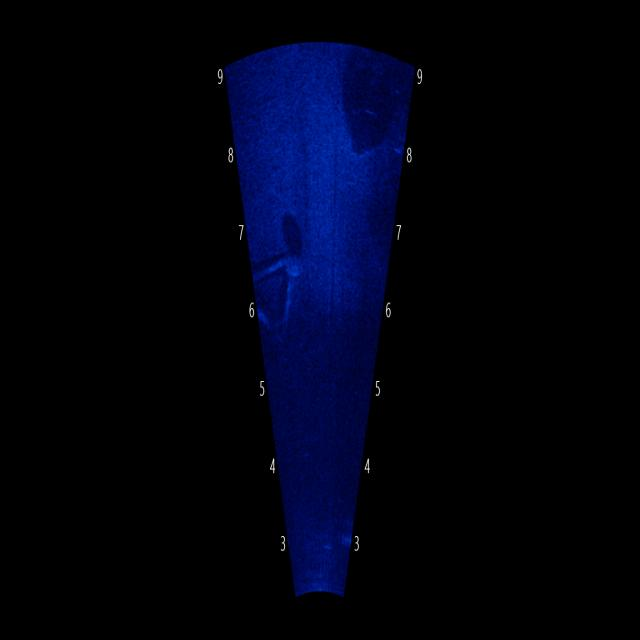triangle: (263, 208, 315, 347)
